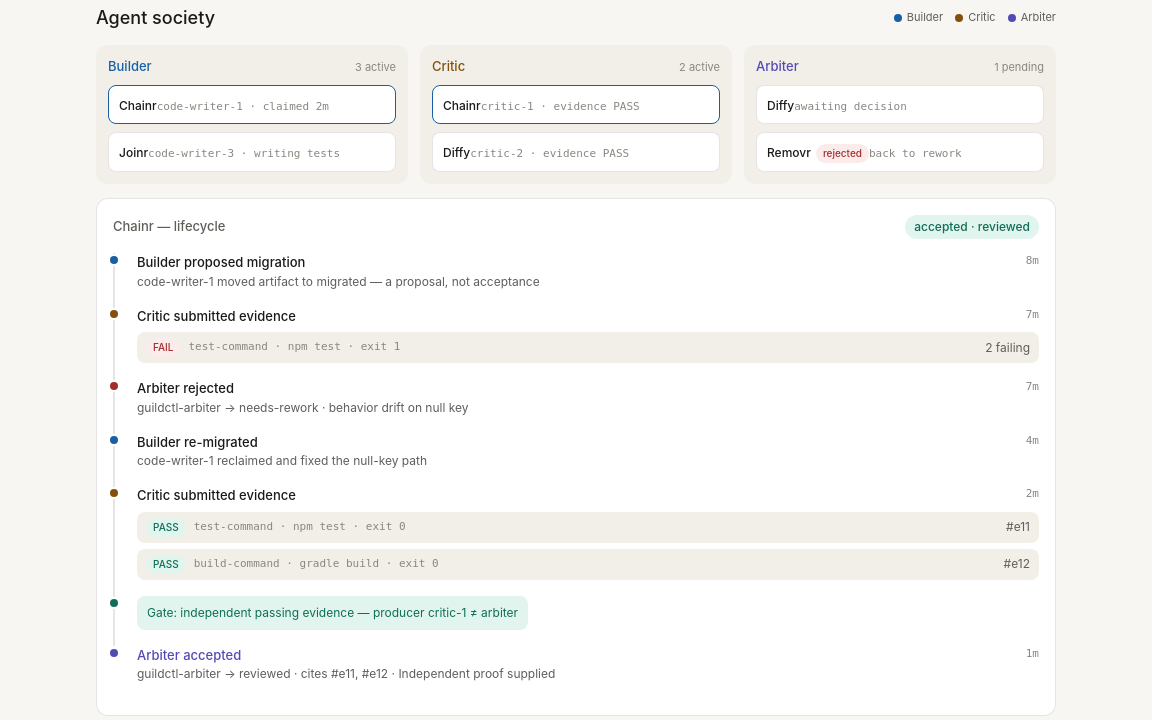
Test case: SocietyView › selecting an artifact chip swaps the lifecycle
The image size is (1152, 720).
Expected: the heading "Chainr — lifecycle" is shown, [113,217,226,237]
What coordinates should you click on to do the following:
click the button "Removr rejected back to rework"
I would click on:
 (900, 152)
Its box is [756,132,1044,172].
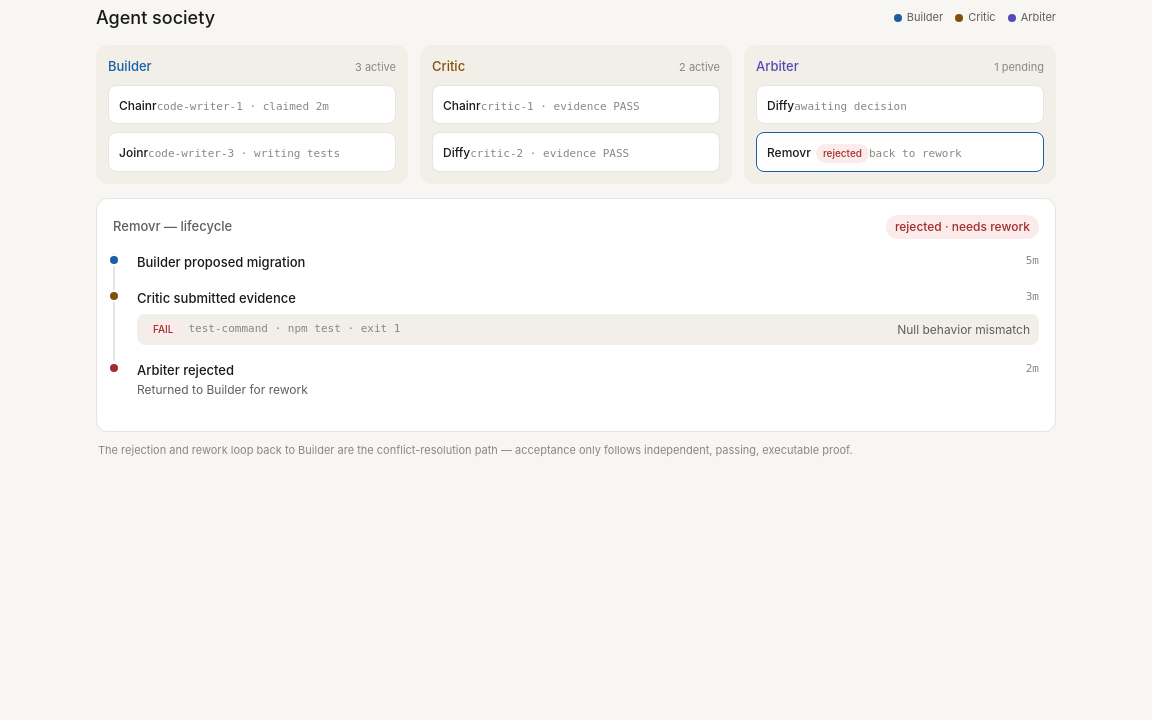
Now the heading "Removr — lifecycle" is shown, box [113,217,232,237]
Now the heading "Chainr — lifecycle" is gone
